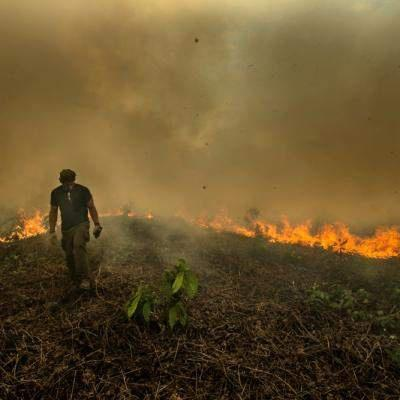victim: (46, 162, 106, 299)
